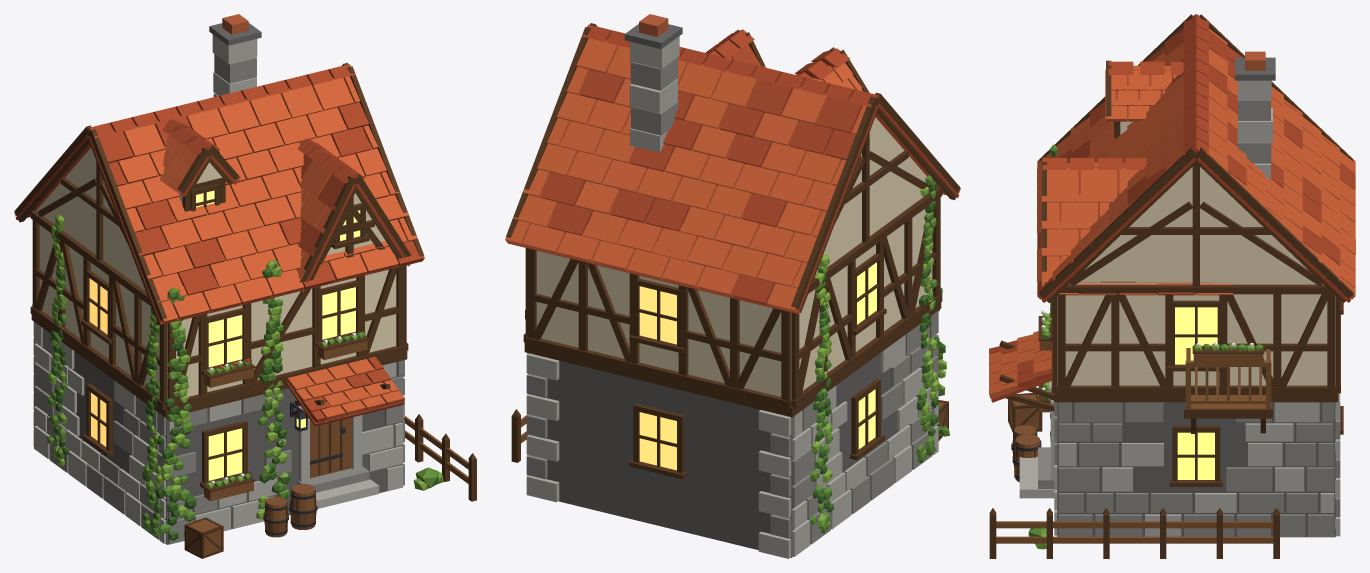
Rendered from Cottage_03_Vines.fbx.
The picture shows the model from 3 angles, left to right: view 1: azimuth 30°, elevation 25°; view 2: azimuth 150°, elevation 25°; view 3: azimuth 270°, elevation 25°; orthographic projection. The views are drawn at different scales.
Visible parts, largest first — view 1: Cottage_03_Vines_LOD0; view 2: Cottage_03_Vines_LOD0; view 3: Cottage_03_Vines_LOD0.
Boxes of the visible parts, bbox=[...] form: Cottage_03_Vines_LOD0: bbox=[14, 14, 476, 558]; Cottage_03_Vines_LOD0: bbox=[505, 14, 960, 558]; Cottage_03_Vines_LOD0: bbox=[989, 14, 1355, 558].
Size of what is drawn, in the model's own units: 6.66 by 9.13 by 6.86.
